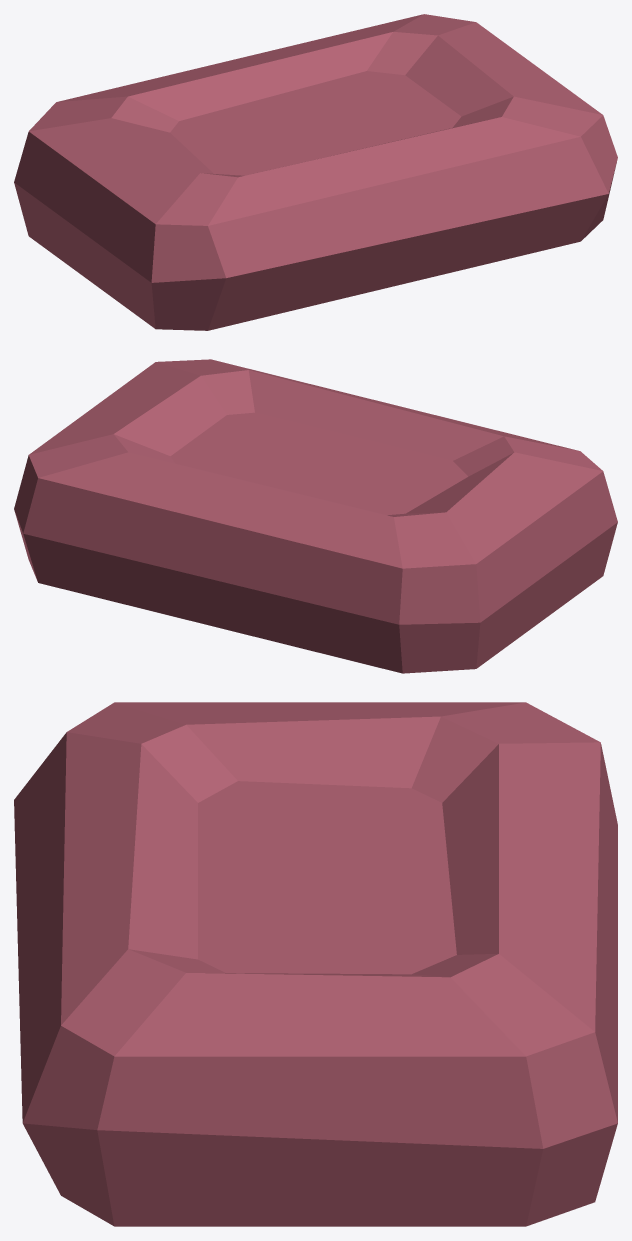
The model's file is SM_Item_Soap_01.fbx.
3 views of the same model, one above another, from view 1: azimuth 30°, elevation 25°; view 2: azimuth 150°, elevation 25°; view 3: azimuth 270°, elevation 25° (orthographic). The views are drawn at different scales.
Visible parts, largest first — view 1: SM_Item_Soap_01; view 2: SM_Item_Soap_01; view 3: SM_Item_Soap_01.
Part boxes in pixels (x1,y1,x2,y2): SM_Item_Soap_01: (14,14,617,330); SM_Item_Soap_01: (14,359,617,673); SM_Item_Soap_01: (14,702,617,1226).
Bounding box in the file's own units: 14.11 × 4.12 × 9.76.
